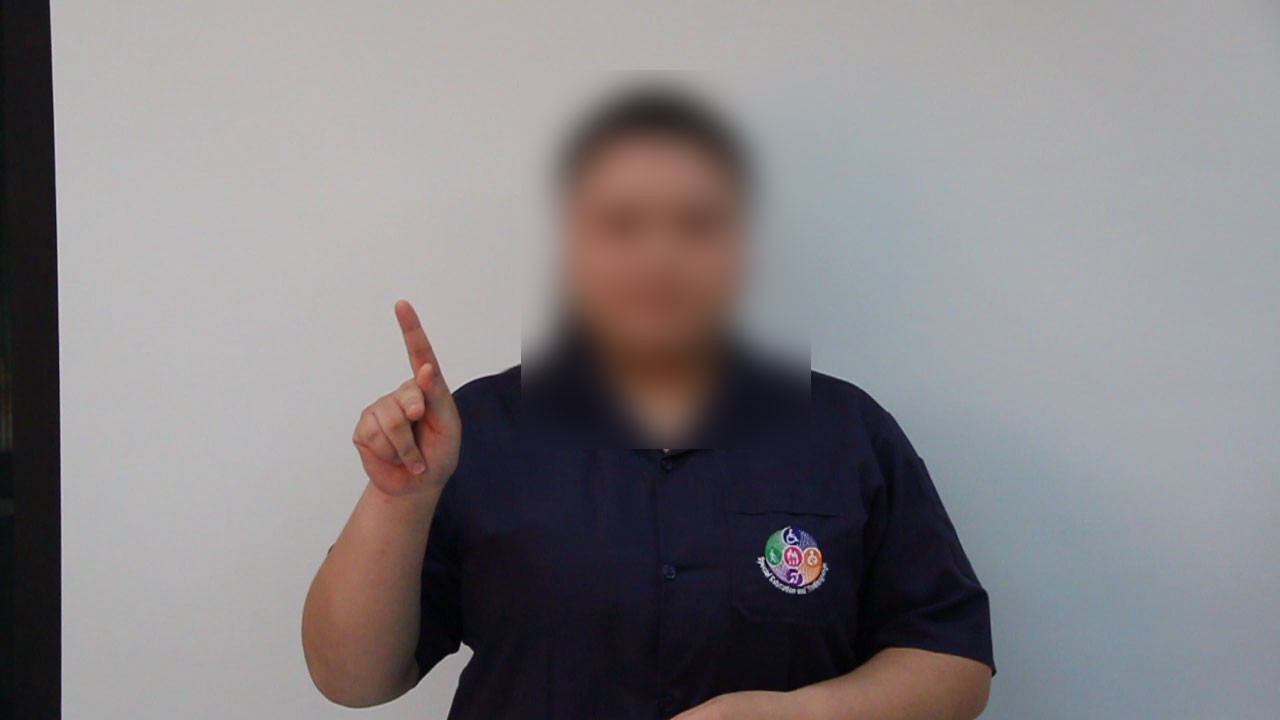ko: (334, 289, 474, 491)
